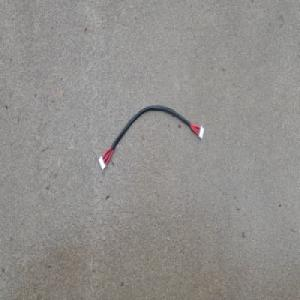Wire: (97, 103, 205, 171)
